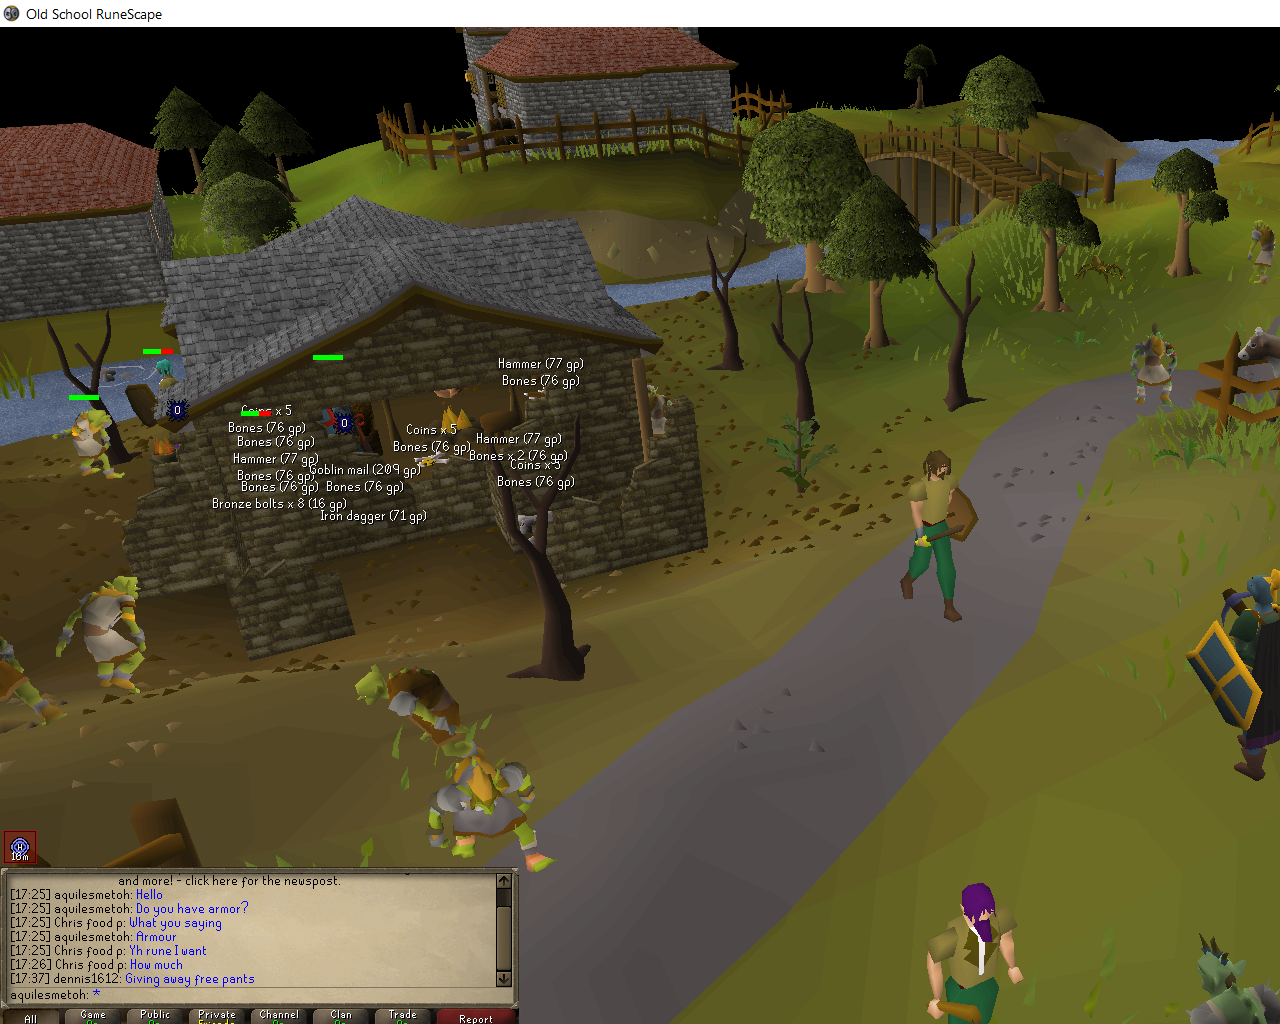Goblin: (413, 754, 562, 872), (339, 658, 476, 754), (53, 571, 152, 695), (1179, 932, 1280, 1024), (52, 405, 127, 483), (1, 631, 63, 723), (1123, 321, 1183, 410), (1243, 218, 1278, 287)
